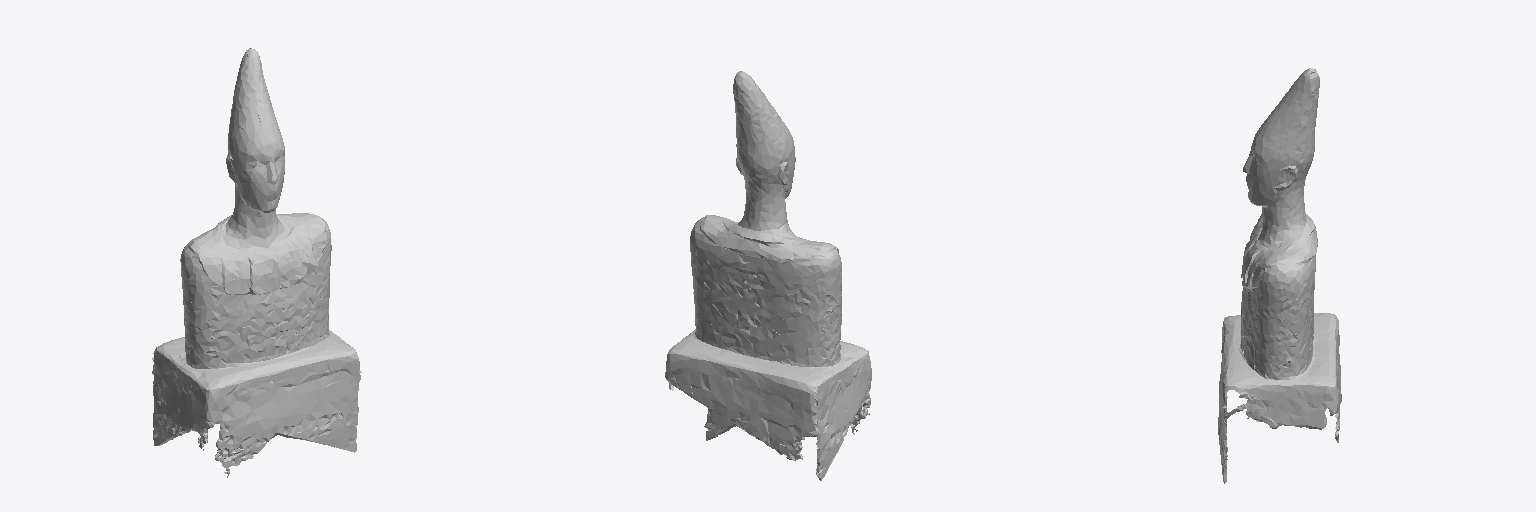
File: lods.obj
3 renders of one model, left to right at view 1: azimuth 30°, elevation 25°; view 2: azimuth 150°, elevation 25°; view 3: azimuth 270°, elevation 25°, orthographic.
Parts seen in each view (by area): view 1: lods; view 2: lods; view 3: lods.
Part boxes in pixels (x1,y1,x2,y2): lods: (152,48,361,477); lods: (665,71,871,480); lods: (1218,68,1341,483).
Bounding box in the file's own units: 1.32 × 3.09 × 0.8937.